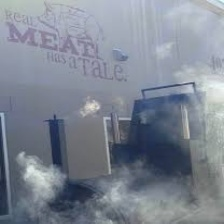smoke: (13, 86, 223, 224)
